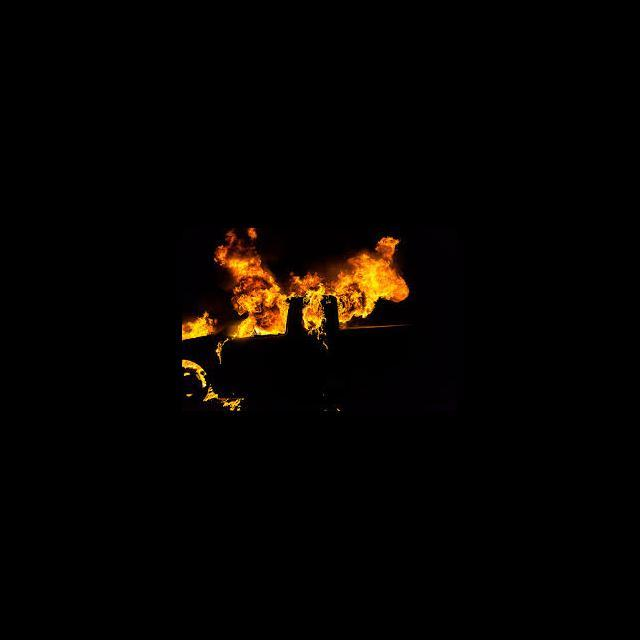Fire: (291, 228, 413, 349), (214, 228, 290, 340), (207, 384, 250, 410), (182, 312, 212, 342), (183, 358, 208, 389), (214, 338, 230, 368), (323, 406, 342, 412), (321, 390, 327, 398)
